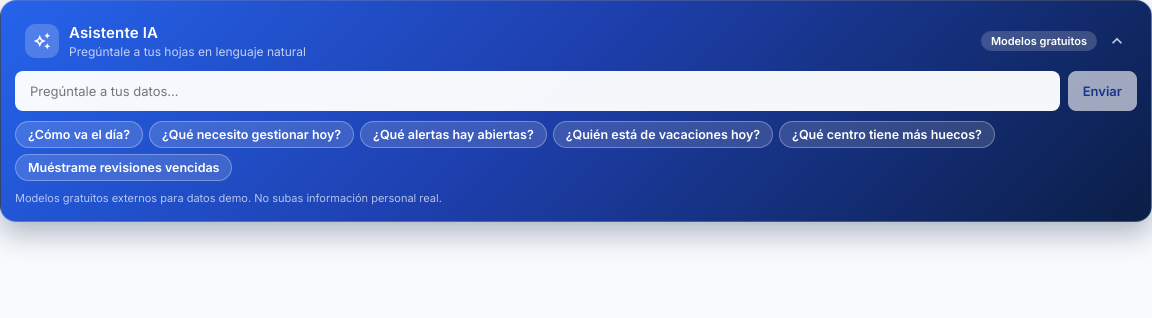
CopilotPanel › muestra error si todos los modelos fallan
Type "hola" into the field named "pregunta al copiloto".
click(537, 91); type("hola")  # box [15,71,1060,111]
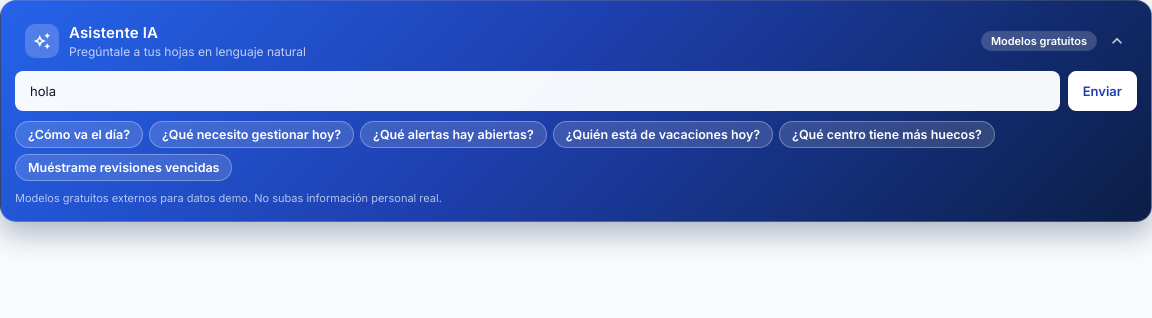
Press Enter in the field named "pregunta al copiloto", box [15,71,1060,111]
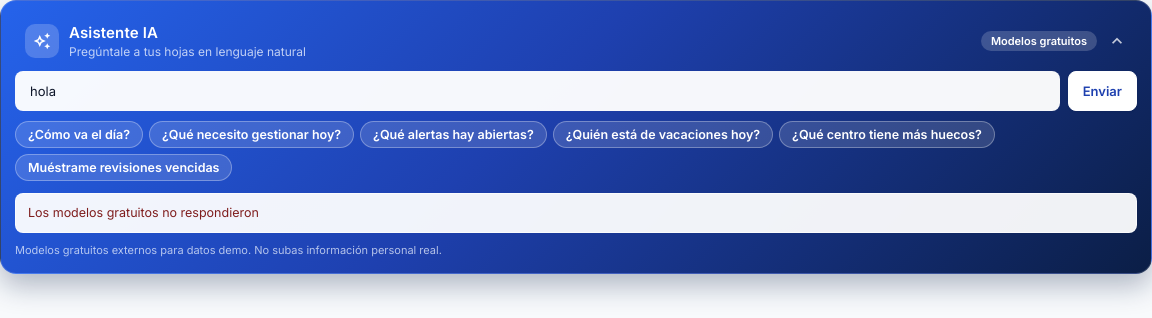
Check: the text "Los modelos gratuitos no respondieron" is shown, box [15,193,1137,233]
